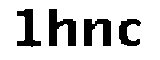1: (13, 5, 43, 53)
c: (117, 15, 145, 49)
h: (48, 5, 80, 51)
n: (82, 16, 115, 50)
